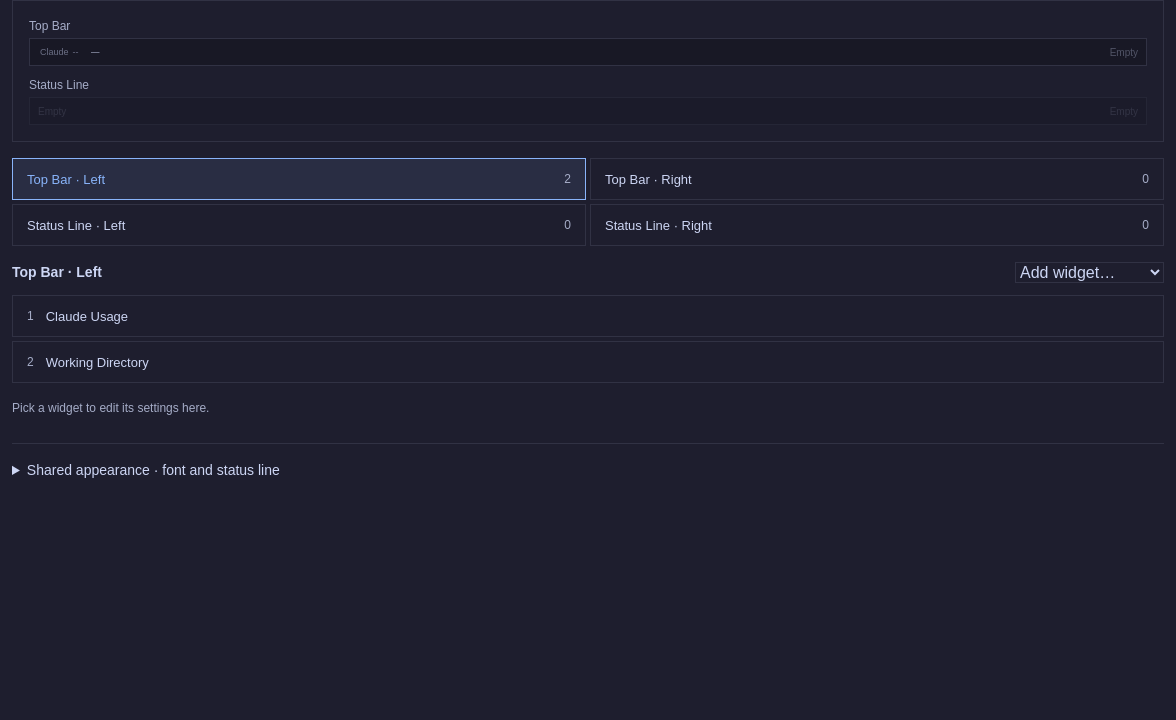
WidgetsSectionBody › opens the detail panel for the widget picked in the preview
This screenshot has width=1176, height=720.
Click the button with test id "widgets-preview-item-w2": click(95, 52) [84, 39, 106, 65]
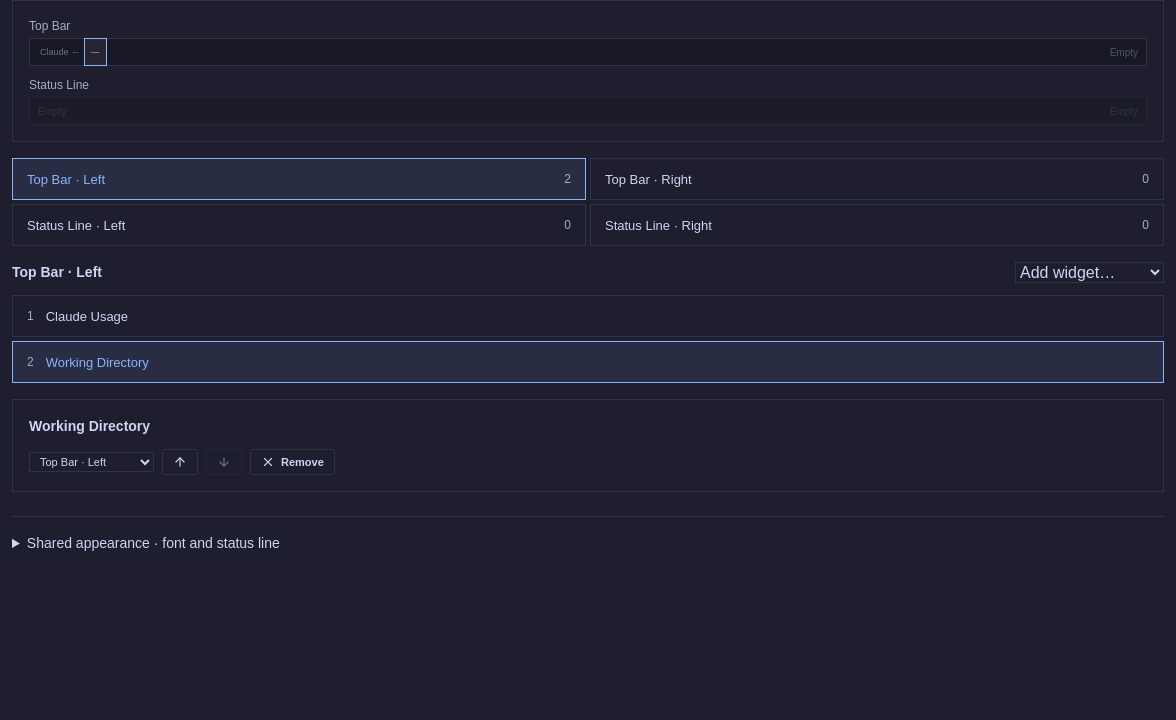
Result: the element with test id "widgets-detail-w2" is shown at [12, 399, 1164, 492]
